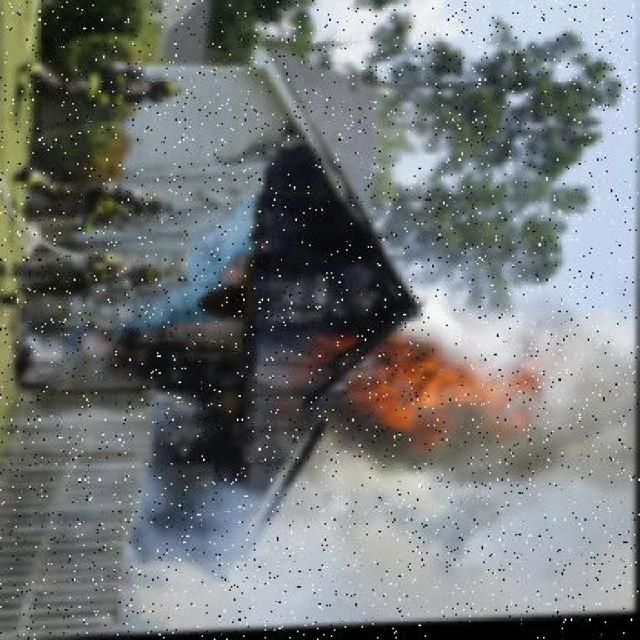fire: (345, 322, 536, 480)
